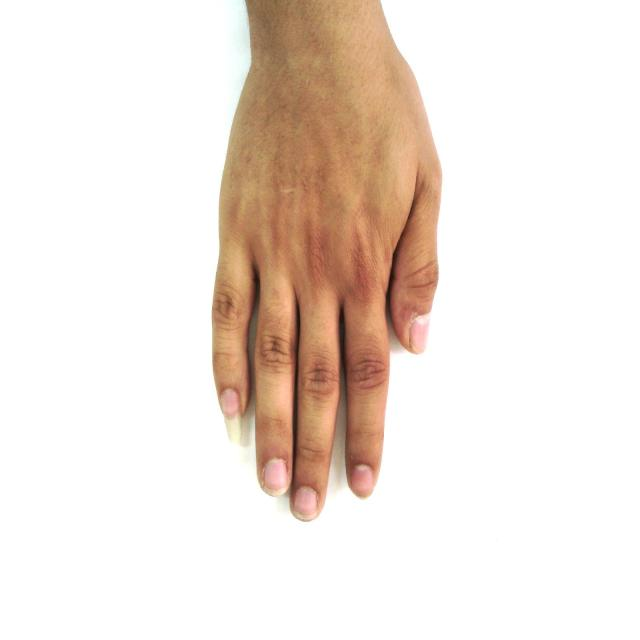Nail: (219, 389, 241, 445), (291, 487, 320, 521), (263, 459, 290, 494), (349, 465, 376, 499), (410, 312, 431, 354)
